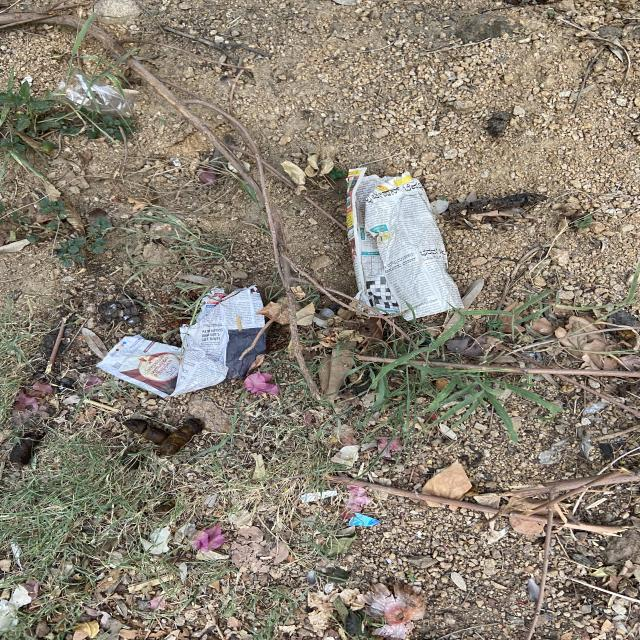giay: (97, 286, 265, 398), (347, 168, 463, 320)
nhua: (56, 72, 138, 116)
rac_huu_co: (124, 56, 306, 341), (327, 477, 626, 535), (529, 470, 640, 511), (405, 360, 573, 382), (122, 418, 203, 457), (0, 11, 79, 28), (92, 28, 124, 53), (572, 370, 640, 379)
